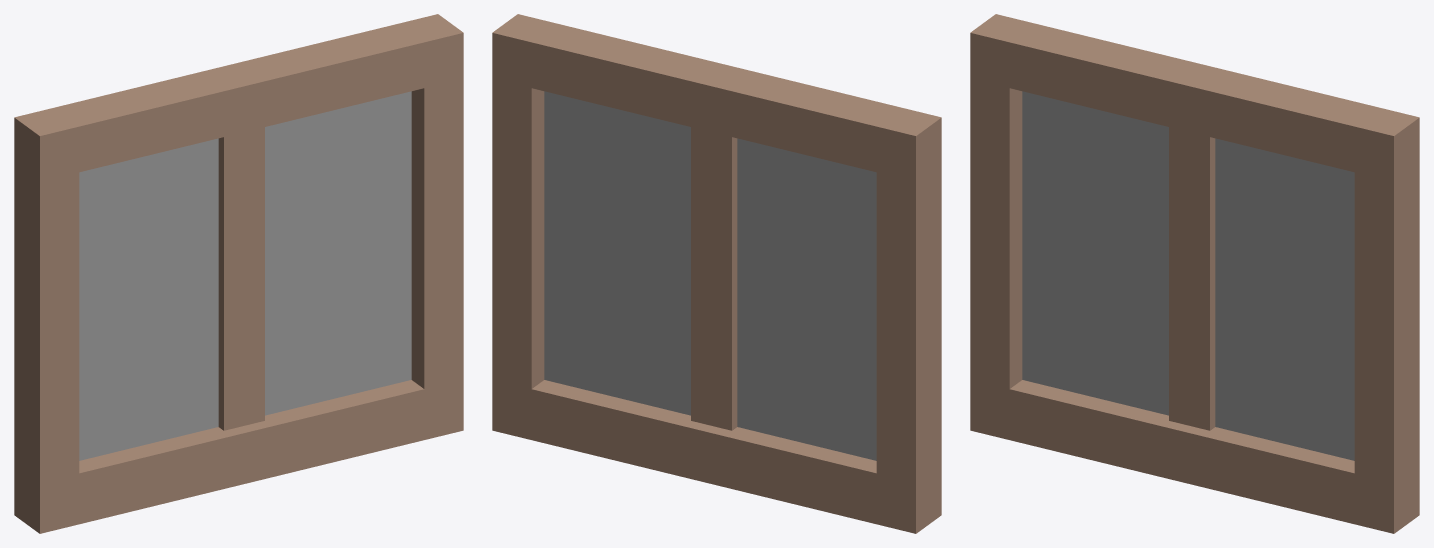
Rendered from Window_5B.fbx.
3 views of the same model, side by side, from view 1: azimuth 30°, elevation 25°; view 2: azimuth 150°, elevation 25°; view 3: azimuth 330°, elevation 25° (orthographic).
Parts seen in each view (by area): view 1: polySurface2317, Window_Glass8; view 2: polySurface2317, Window_Glass8; view 3: polySurface2317, Window_Glass8.
Part boxes in pixels (x1,y1,x2,y2): polySurface2317: (14, 14, 463, 533); Window_Glass8: (79, 91, 411, 460); polySurface2317: (492, 14, 941, 533); Window_Glass8: (544, 91, 876, 460); polySurface2317: (970, 14, 1419, 533); Window_Glass8: (1022, 91, 1354, 460).
Size of the model in its own units: 1.43 by 1.28 by 0.15.
Materials: 2 (1 with a texture image).
